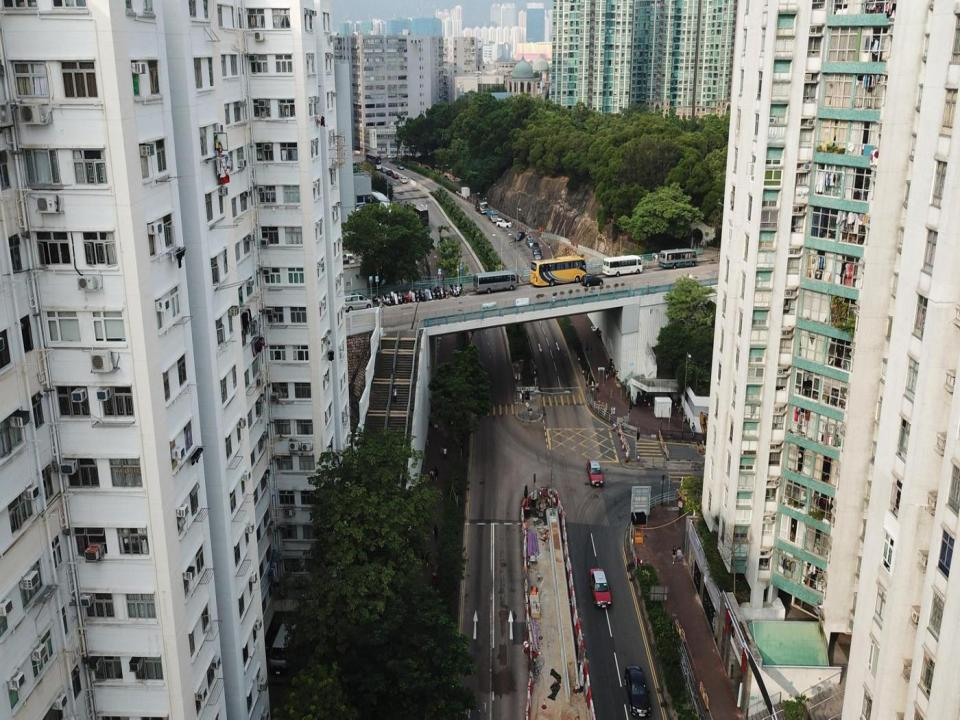bus: (530, 255, 587, 286), (473, 270, 518, 294), (602, 255, 643, 276), (659, 248, 697, 270), (406, 201, 428, 227), (365, 153, 381, 169)
car: (624, 665, 651, 717), (589, 568, 612, 608), (586, 460, 604, 486), (580, 273, 604, 287), (353, 202, 366, 214), (496, 219, 512, 228), (343, 253, 354, 264), (515, 232, 525, 241), (399, 176, 407, 184), (387, 154, 397, 159), (386, 169, 393, 176), (380, 167, 387, 173), (397, 164, 404, 170), (392, 173, 399, 178)
truck: (486, 208, 499, 222), (475, 201, 488, 214), (458, 187, 470, 197)
van: (342, 292, 372, 312), (532, 242, 540, 257), (526, 235, 535, 248), (535, 254, 544, 267)
